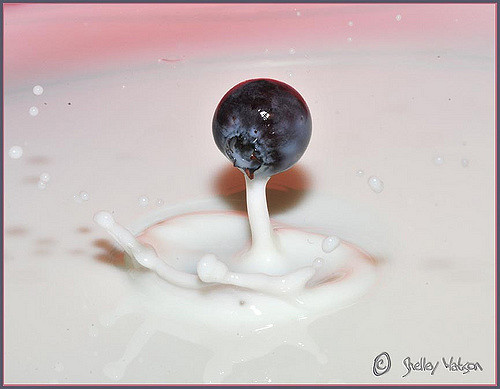glass of milk: (52, 128, 443, 366)
